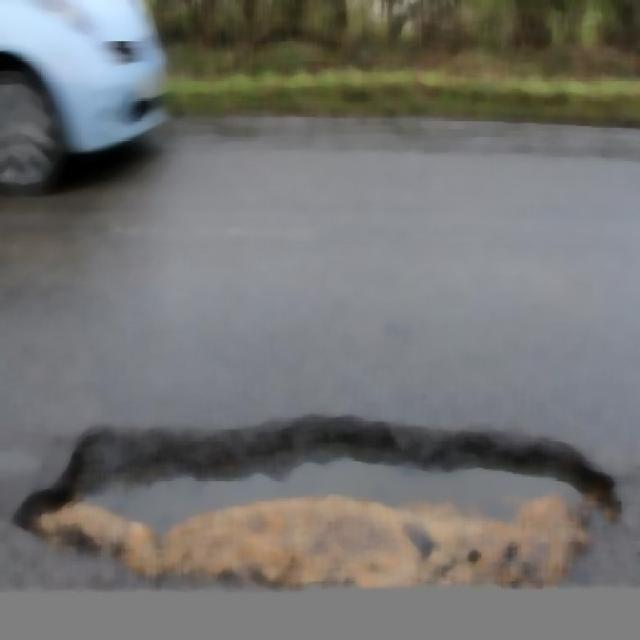Pothole: (62, 427, 608, 584)
